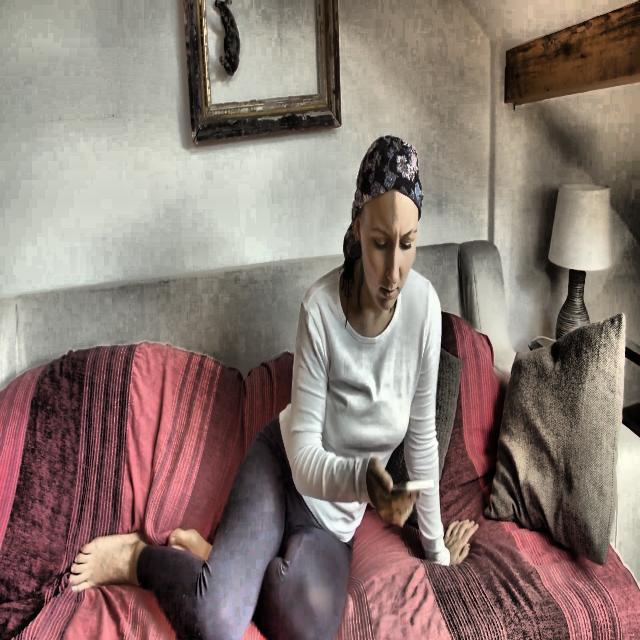Phone: (390, 476, 437, 496)
